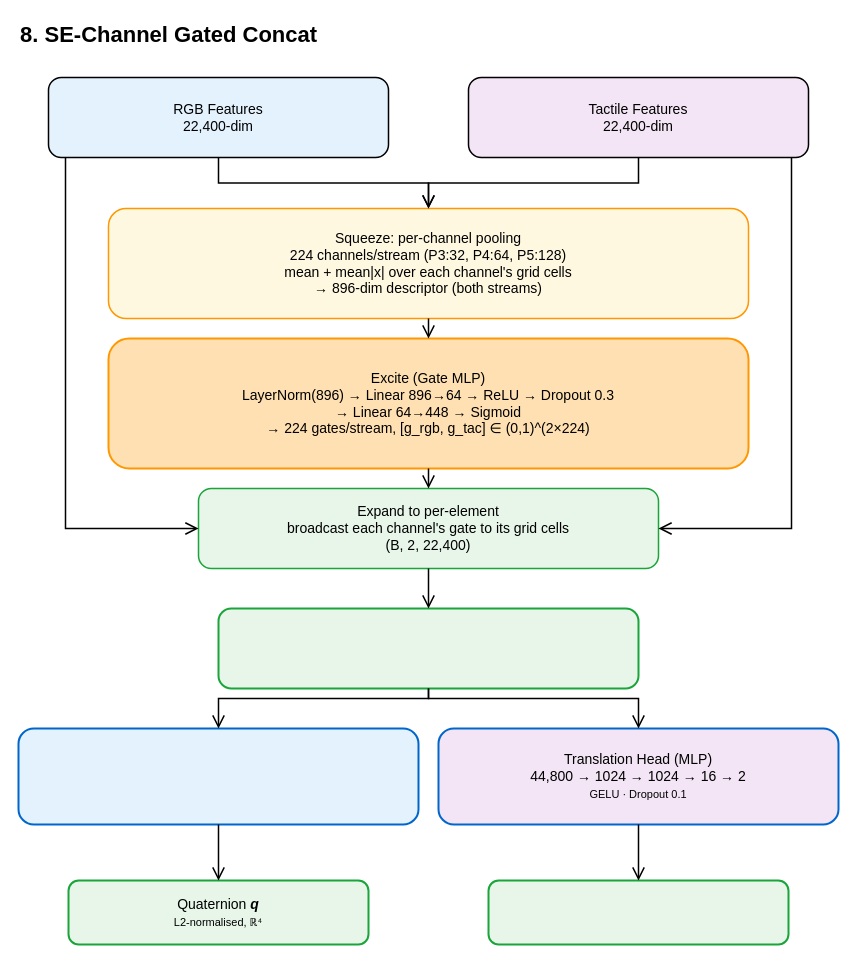
This 856x962 diagram has some shape labels left out. Here are the shapes that lost their labels. From the top down, the centre of each, then its label:
pixel 428 648: [g_rgb⊙RGB | g_tac⊙Tactile] 44,800-dim
pixel 218 776: Rotation Head (MLP) 44,800 → 256 → 1024 → 4 GELU · Dropout 0.1
pixel 638 912: Translation Vector [ y , z ] x fixed to 0
